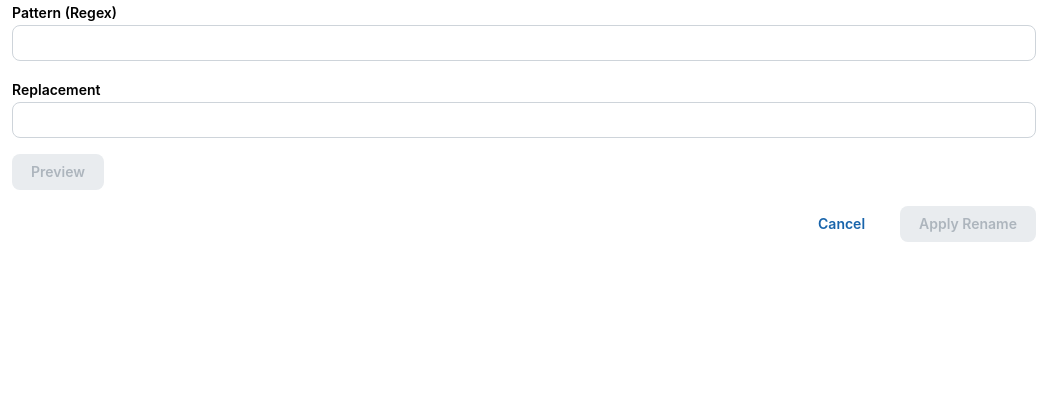
Test: RenamePatternModal › previews matching and nonmatching device rows
The width and height of the screenshot is (1048, 418).
Type "^Old" into the field labelled "Pattern (Regex)" at (524, 43), box [12,25,1036,61]
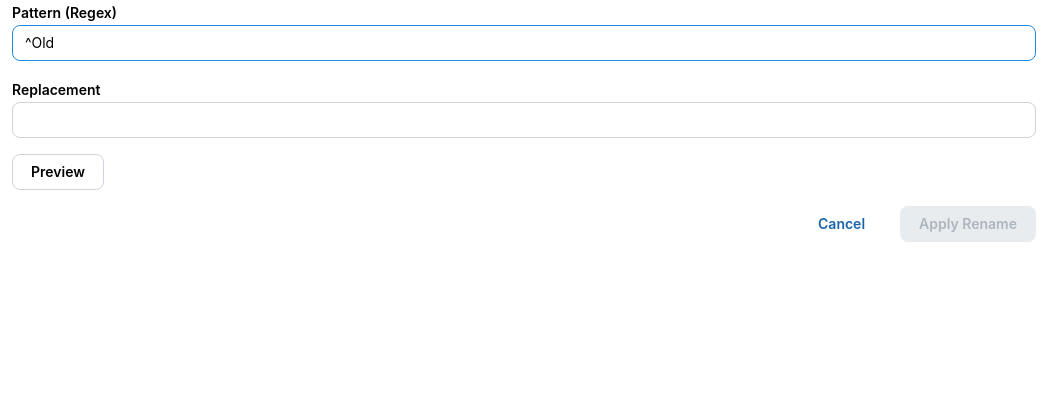
Type "New" into the field labelled "Replacement" at (524, 120), box [12,102,1036,138]
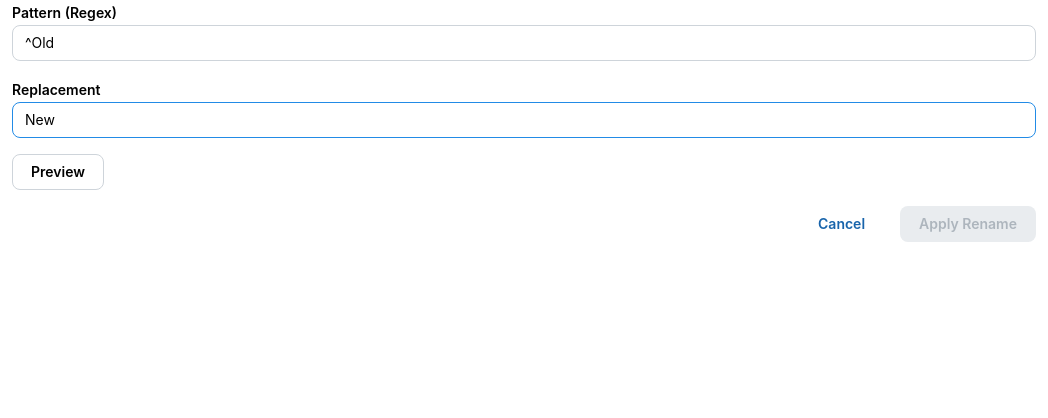
Click the button "Preview" at (58, 172), box [12,154,104,190]
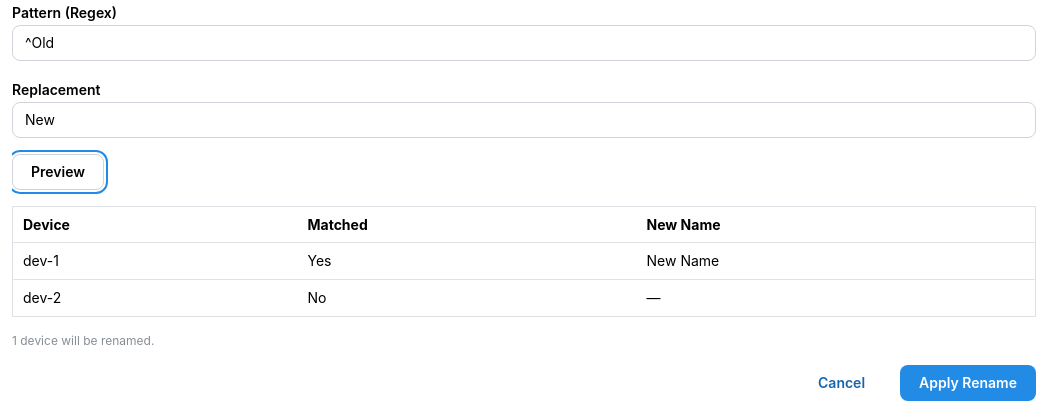
Check: the number of column headings "New Name" is 2, box [636,206,1036,243]; [636,243,1036,280]
Check: the text "1 device will be renamed." is shown, box [12,333,154,348]
